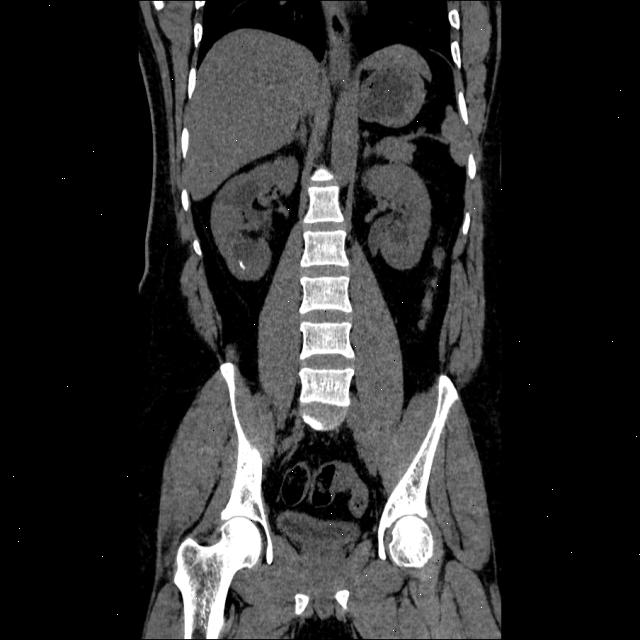kidneystone: (238, 259, 246, 270)
